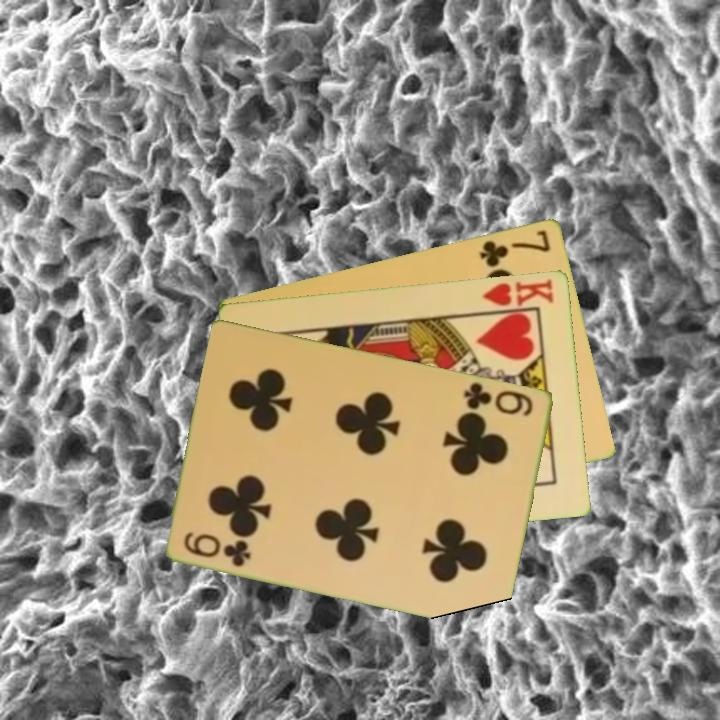6c: (461, 378, 537, 419), (181, 528, 254, 570)
7c: (477, 225, 554, 270)
Kh: (477, 275, 557, 315)
